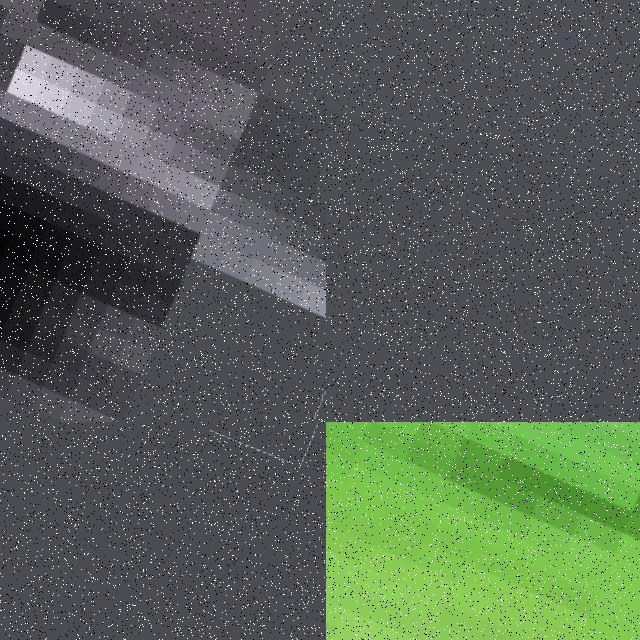0: (0, 0, 326, 422)
drone: (326, 422, 640, 640)
